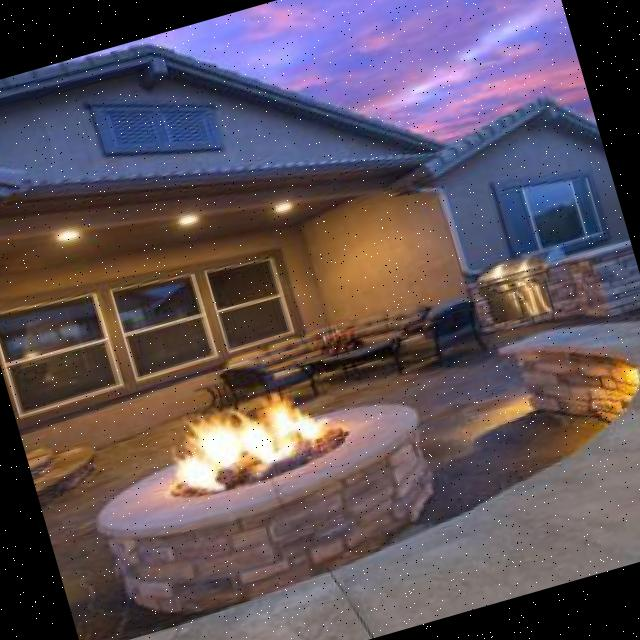fire: (140, 359, 350, 511)
